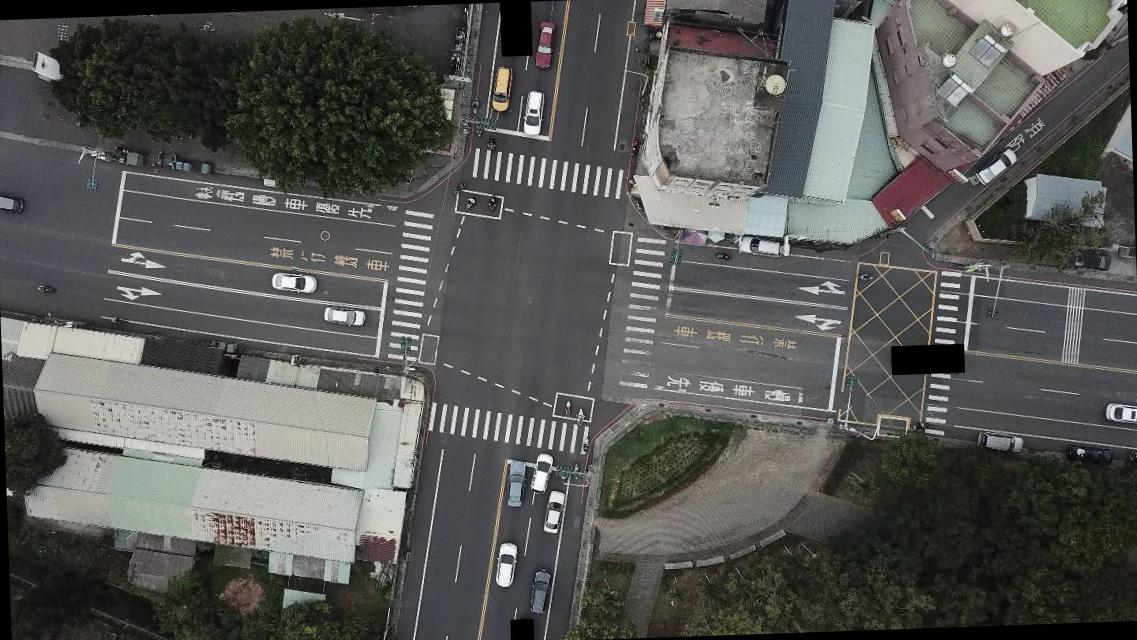vehicle: (970, 147, 1020, 188), (270, 268, 319, 296), (526, 566, 554, 614), (502, 458, 528, 508), (489, 64, 516, 112), (977, 428, 1025, 454), (532, 19, 556, 69), (1066, 442, 1114, 467), (492, 541, 518, 587), (1070, 245, 1112, 273), (540, 489, 566, 534), (522, 88, 546, 136), (737, 234, 784, 258), (321, 304, 366, 328), (529, 452, 554, 493), (1103, 399, 1136, 427), (0, 191, 26, 217)
